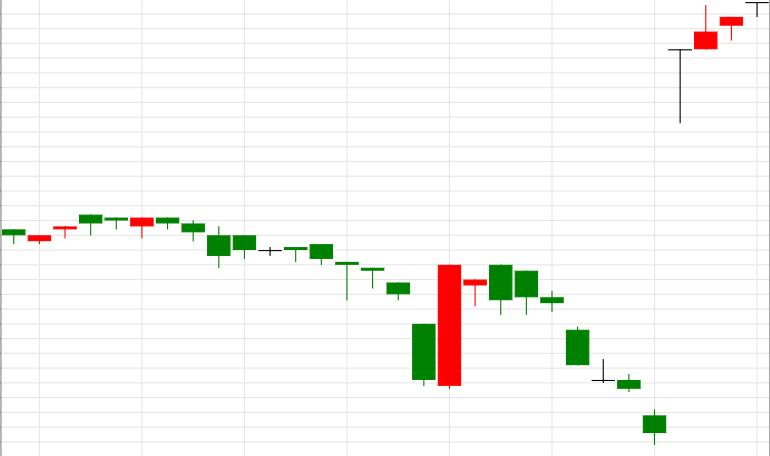bullish_engulfing_rise: (157, 217, 460, 389)
